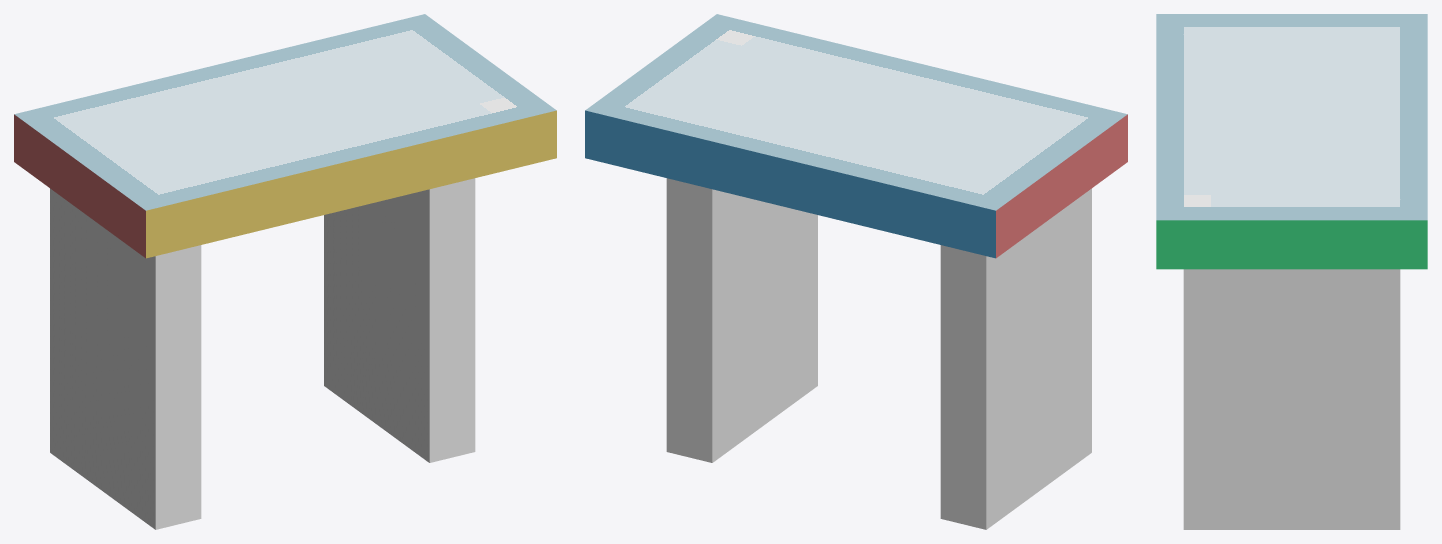
File: stand.gltf
The picture shows the model from 3 angles, left to right: view 1: azimuth 30°, elevation 25°; view 2: azimuth 150°, elevation 25°; view 3: azimuth 270°, elevation 25°; orthographic projection. The views are drawn at different scales.
Parts seen in each view (by area): view 1: Shelf - hand painted, Left support, Right support; view 2: Shelf - hand painted, Left support, Right support; view 3: Shelf - hand painted, Right support.
Part boxes in pixels (bbox=[...]): Shelf - hand painted: bbox=[14, 14, 556, 258]; Left support: bbox=[50, 188, 201, 529]; Right support: bbox=[324, 178, 475, 462]; Shelf - hand painted: bbox=[585, 14, 1127, 258]; Left support: bbox=[940, 188, 1091, 529]; Right support: bbox=[666, 178, 817, 462]; Shelf - hand painted: bbox=[1156, 14, 1427, 269]; Right support: bbox=[1183, 269, 1400, 529].
Bounding box in the file's own units: 1.12 × 0.875 × 0.625.
2 materials, 1 textured.
